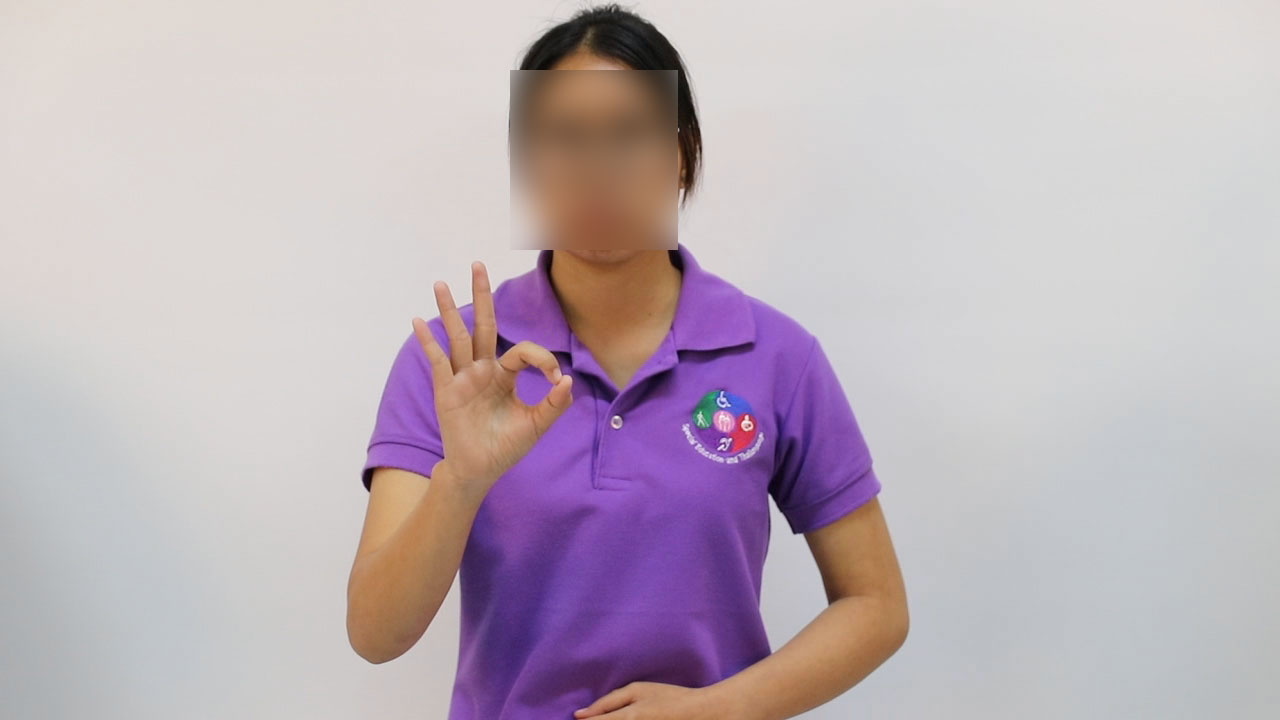for: (409, 245, 577, 482)
